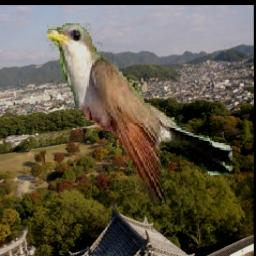Cuckoo: (46, 23, 231, 213)
